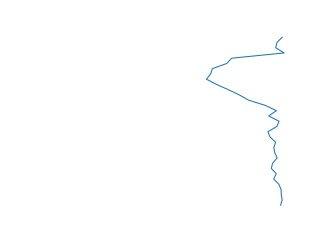distalBar: (198, 37, 295, 205)
